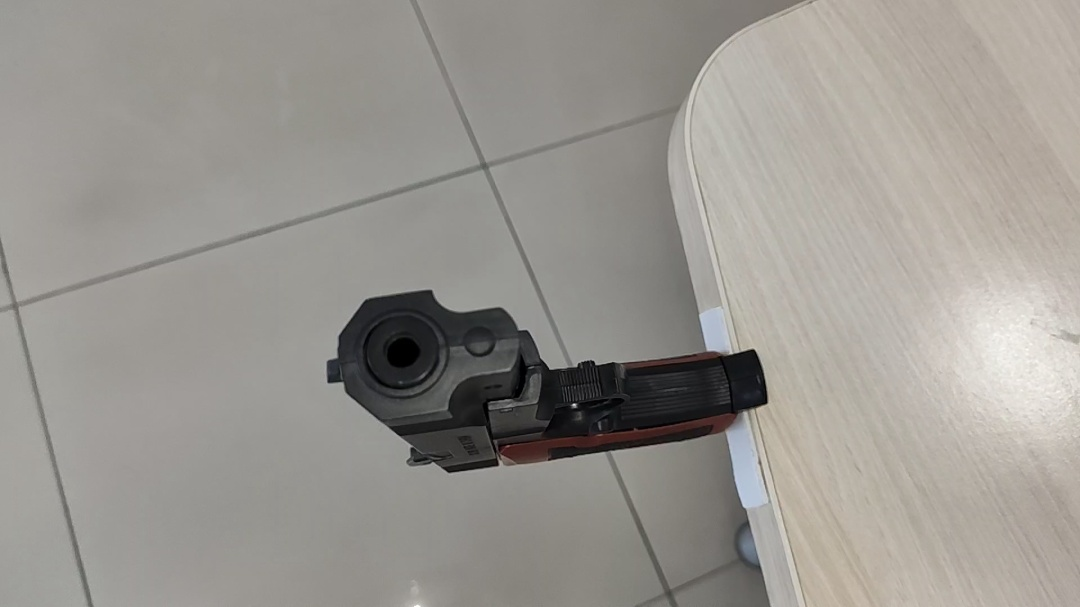gun: (373, 245, 415, 269)
